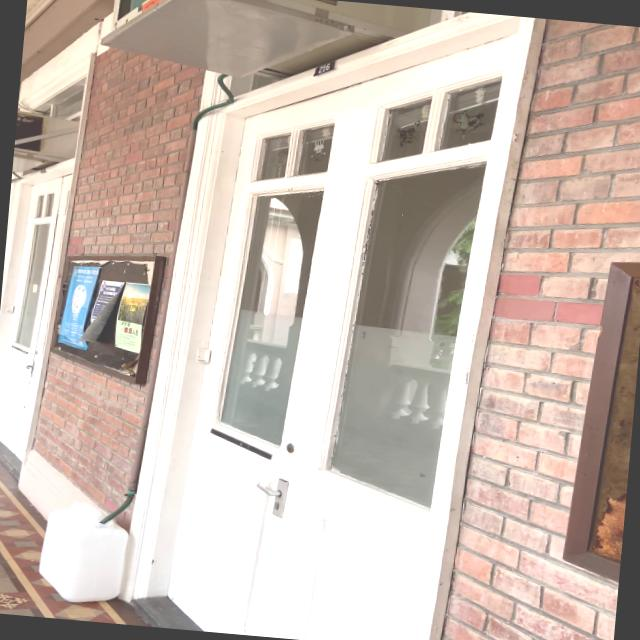room216: (312, 58, 336, 78)
